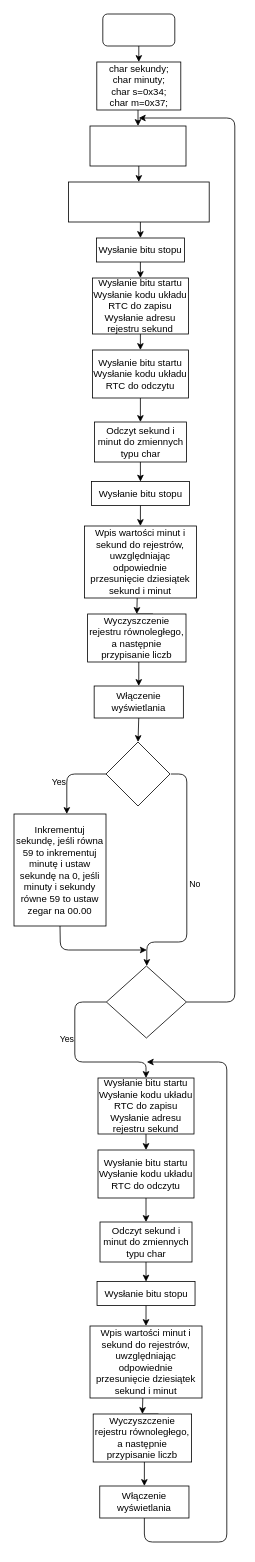
This 255x1562 diagram has some shape labels left out. Here are the shapes that lost their labels. From the top down, the box of each, then its label:
(102, 13, 175, 46): START
(89, 125, 186, 166): Wysłanie bitu startu Wysłanie kodu układu RTC do zapisu
(68, 181, 209, 222): Wysłanie adresu rejestru sekund Wysłanie wartości sekund Wysłanie wartości minut
(105, 741, 170, 806): Czy wciśnięto UP?
(106, 965, 186, 1038): Czy wciśnięto ESCAPE?
